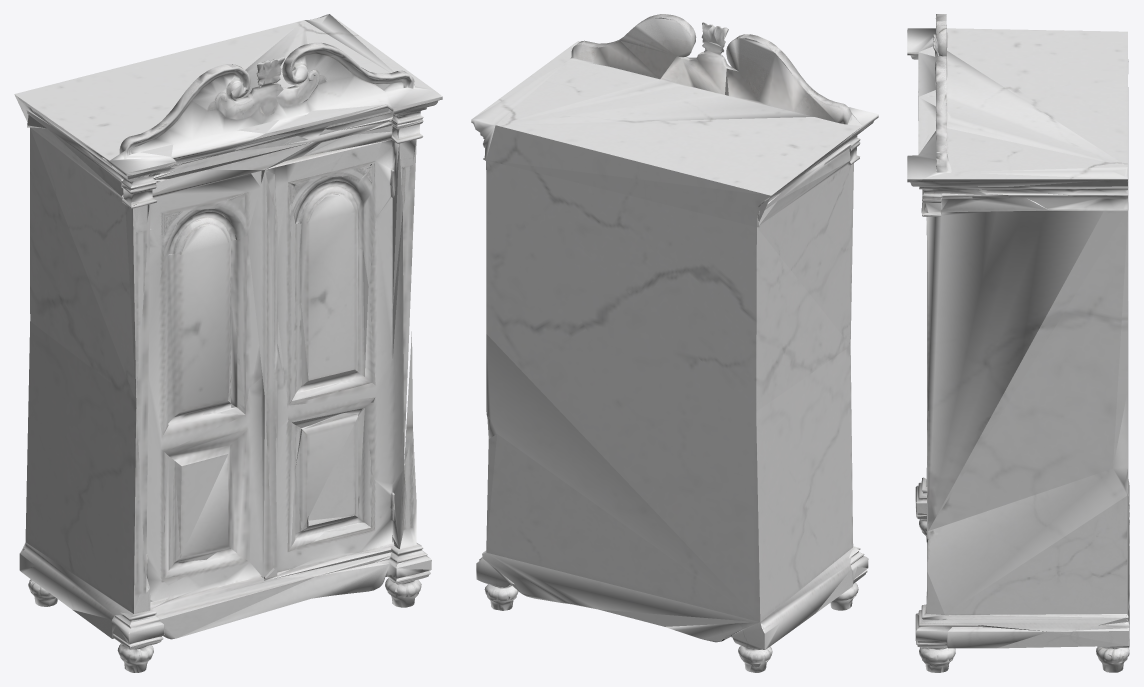
Rendered from Armoire.fbx.
3 views of the same model, side by side, from view 1: azimuth 30°, elevation 25°; view 2: azimuth 150°, elevation 25°; view 3: azimuth 270°, elevation 25° (orthographic). The views are drawn at different scales.
Parts seen in each view (by area): view 1: output_unwrapped; view 2: output_unwrapped; view 3: output_unwrapped.
Boxes of the visible parts, x1,y1,x2,y2 form: output_unwrapped: (14,14,442,672); output_unwrapped: (471,14,878,672); output_unwrapped: (907,14,1129,672).
Size of the model in its own units: 109 by 190 by 67.86.
Materials: 1 (1 with a texture image).
